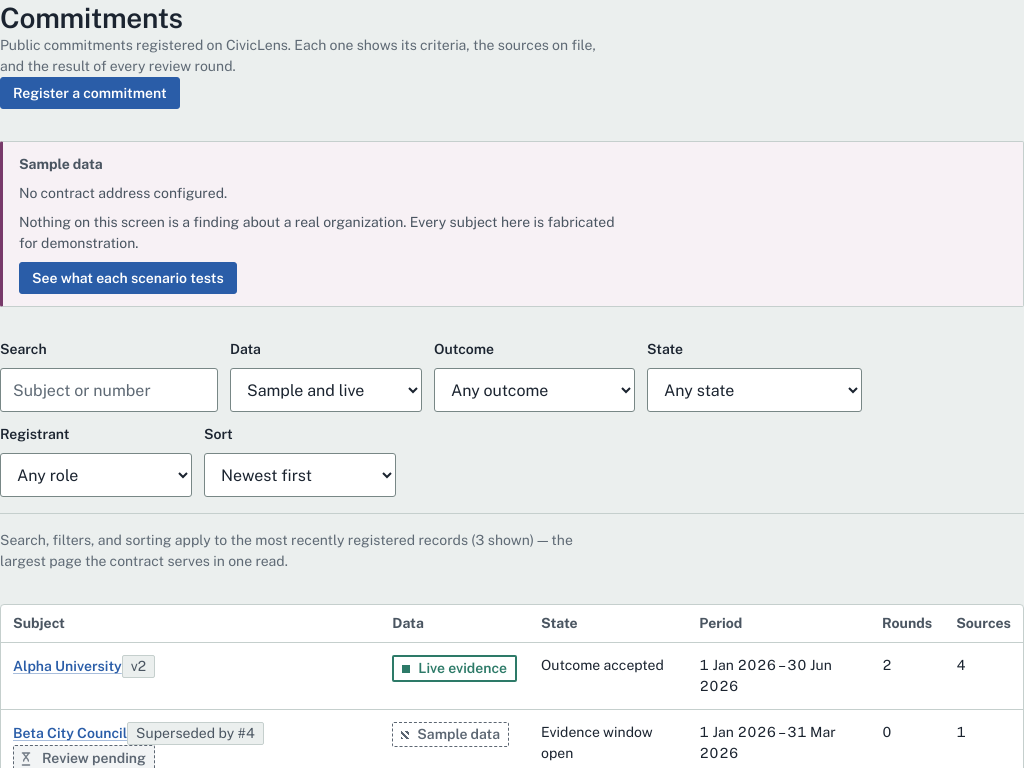
Scenario: browse search, filter, and sort › searches by subject and by record number
The image size is (1024, 768).
Expected: the link "Alpha University" is shown, [13,658,122,674]
Type "beta" into the search field labelled "Search" at point(109, 390), box [0,368,218,412]
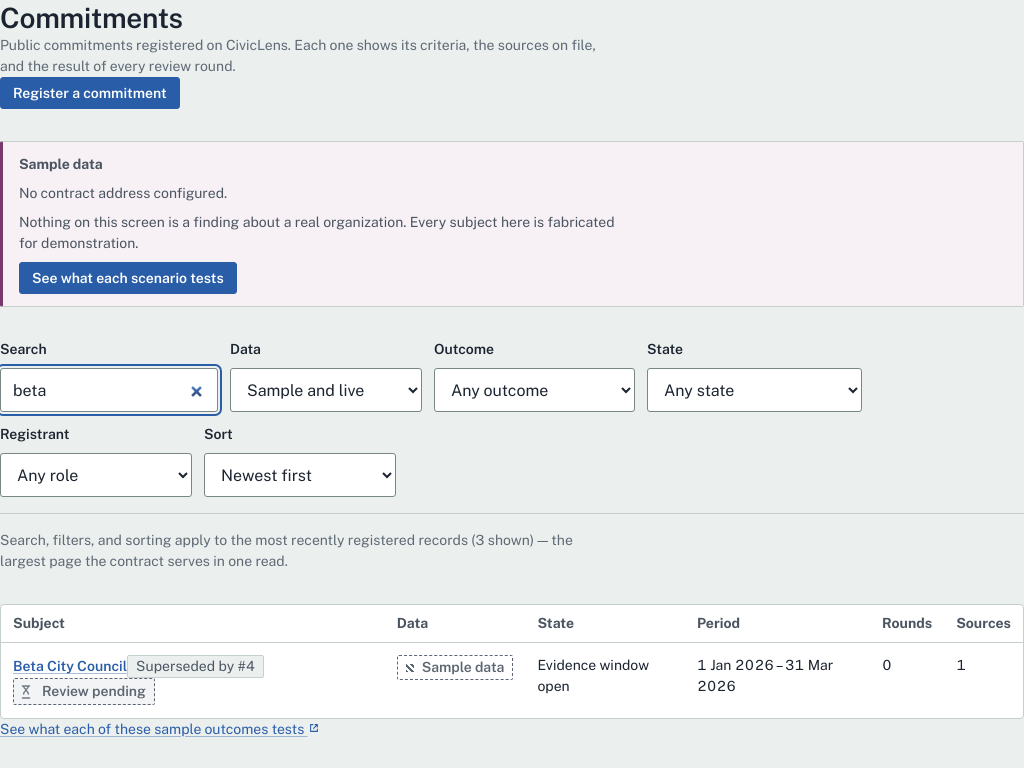
Expected: the link "Beta City Council" is shown, [13,658,127,674]
Expected: the link "Alpha University" is gone
Replace the text in the search field labelled "Search" with "3" at point(109, 390), box [0,368,218,412]
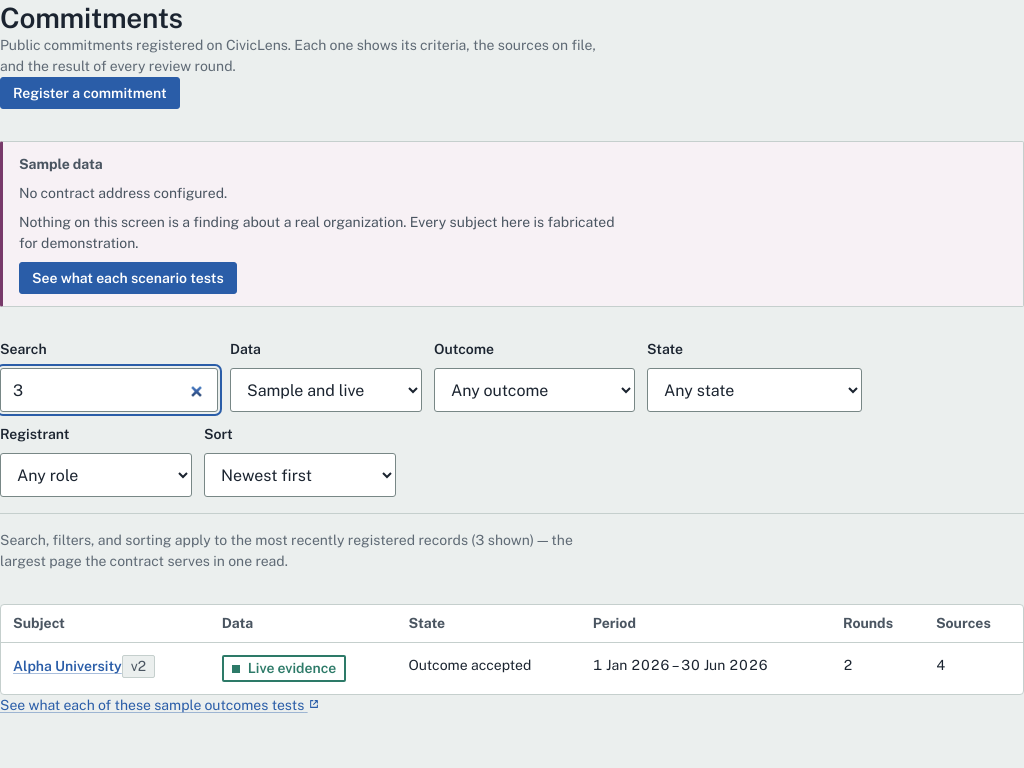
Expected: the link "Alpha University" is shown, [13,658,122,674]
Expected: the link "Beta City Council" is gone
